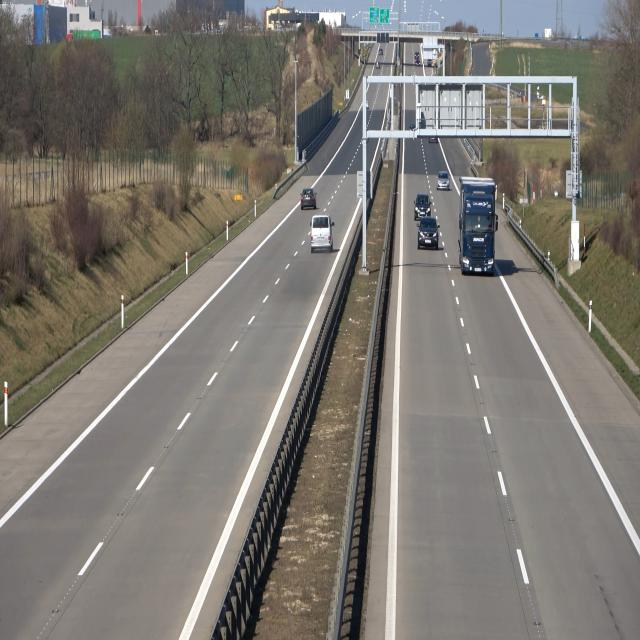Car: (458, 178, 497, 276), (309, 212, 334, 254), (417, 218, 440, 249), (298, 185, 318, 212), (413, 192, 431, 221), (435, 169, 450, 192)
